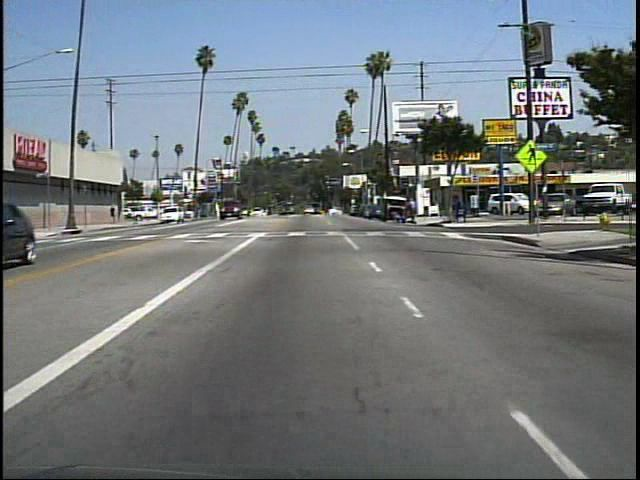person: (405, 194, 420, 225), (390, 209, 407, 228), (110, 200, 119, 225)
